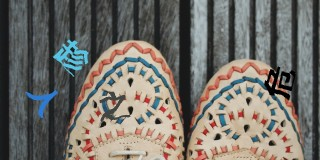之: (96, 90, 128, 120)
人: (25, 85, 60, 118)
危: (261, 65, 297, 102)
趁: (52, 36, 89, 77)
